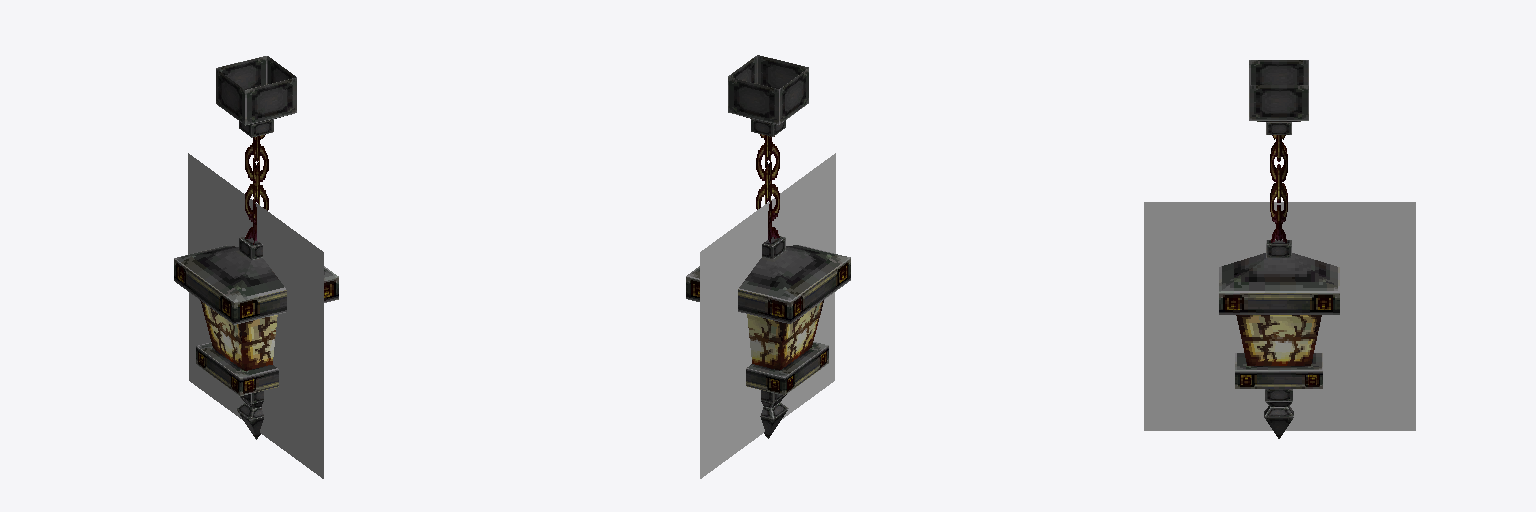
3 views of the same model, side by side, from view 1: azimuth 30°, elevation 25°; view 2: azimuth 150°, elevation 25°; view 3: azimuth 270°, elevation 25° (orthographic).
Visible parts, largest first — view 1: object 1; view 2: object 1; view 3: object 1.
Part boxes in pixels (left/top/right/bottom): object 1: left=174, top=56, right=338, bottom=478; object 1: left=686, top=55, right=850, bottom=478; object 1: left=1144, top=60, right=1415, bottom=438.
Bounding box in the file's own units: 0.7106 × 2.37 × 1.59.
Materials: 3 (2 with a texture image).